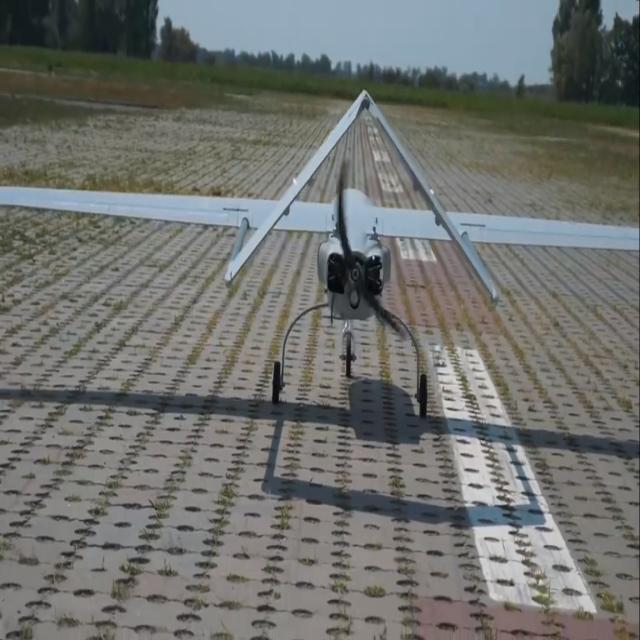drones: (0, 82, 640, 453)
